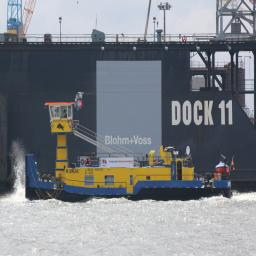tugboat: (25, 101, 235, 206)
